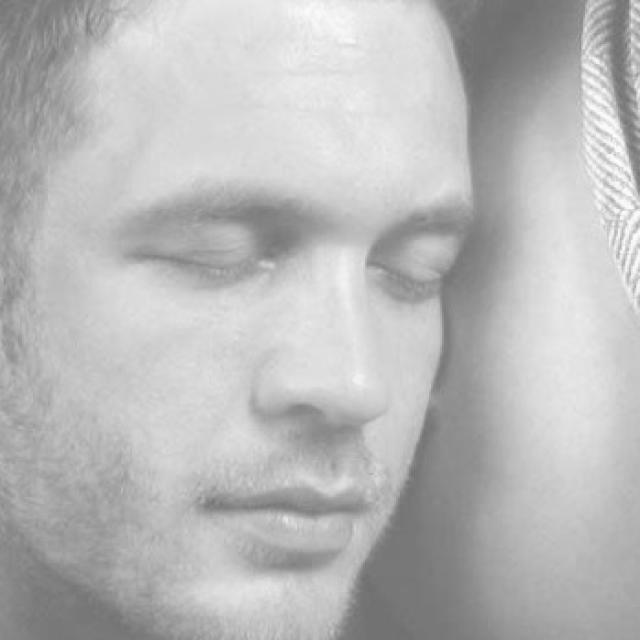real: (0, 0, 470, 637), (126, 160, 442, 310)
